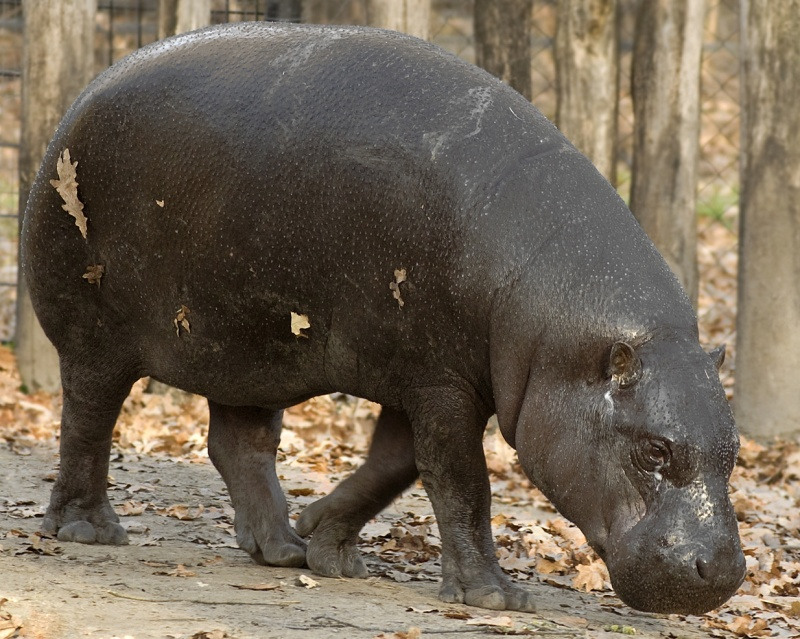hipopotamo: (21, 16, 750, 614)
